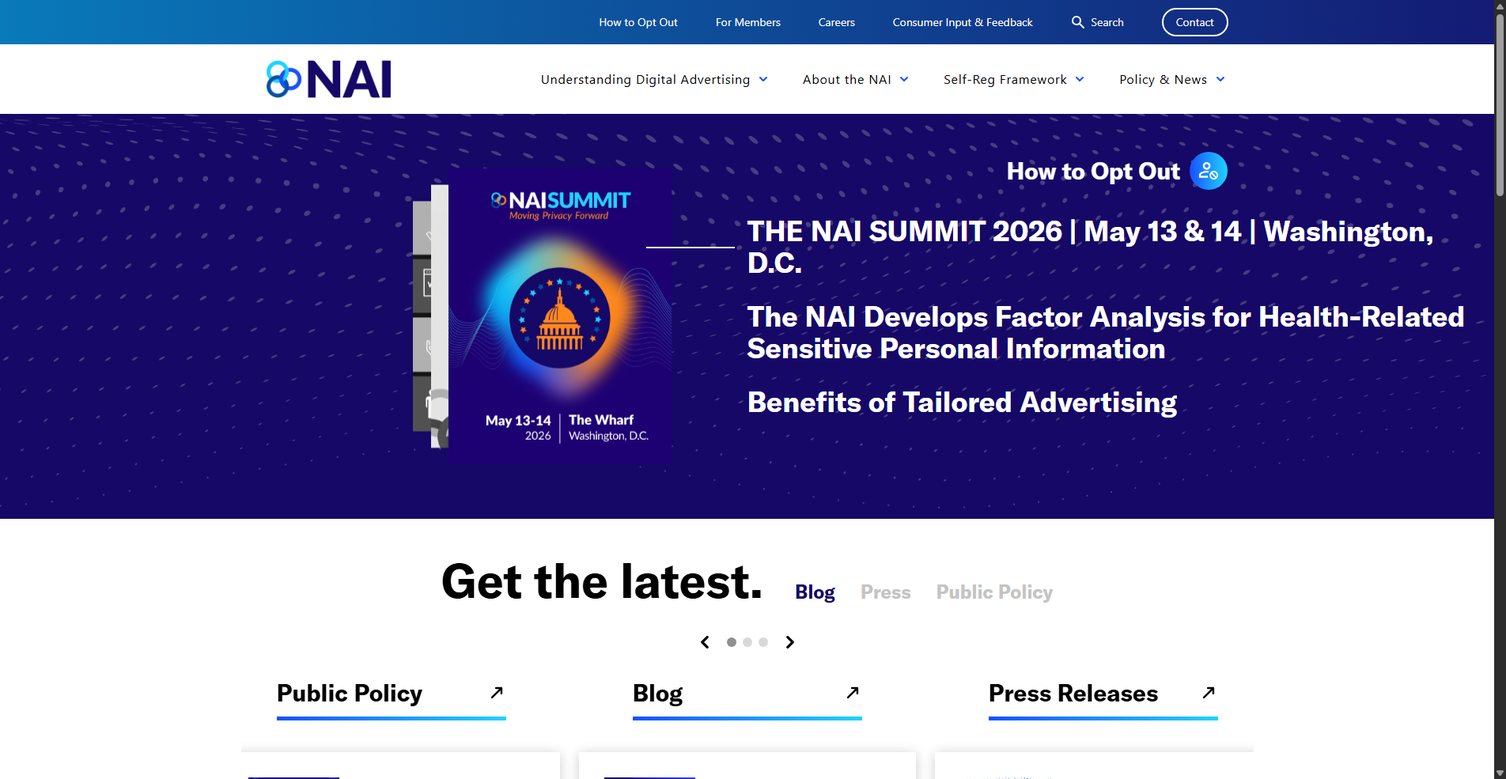button: (1007, 133, 1228, 190), (936, 579, 1053, 604), (860, 579, 911, 604), (795, 579, 835, 604), (742, 637, 752, 647), (758, 637, 768, 647), (727, 637, 736, 647)
link: (747, 215, 1494, 278), (747, 301, 1494, 364), (747, 386, 1494, 418), (509, 44, 771, 114), (912, 44, 1088, 114), (276, 669, 506, 720), (632, 669, 862, 720), (988, 669, 1218, 720), (771, 44, 912, 114), (1088, 44, 1228, 114), (1344, 669, 1506, 720), (0, 669, 150, 720), (266, 60, 390, 98), (893, 14, 1033, 30), (1162, 8, 1228, 36), (599, 14, 678, 30), (716, 14, 780, 30), (1071, 14, 1124, 30), (818, 14, 855, 30), (352, 777, 534, 779), (708, 777, 890, 779), (1064, 777, 1246, 779), (0, 777, 178, 779), (248, 777, 339, 779), (604, 777, 695, 779), (960, 777, 1051, 779), (1316, 777, 1407, 779), (1420, 777, 1506, 779)
